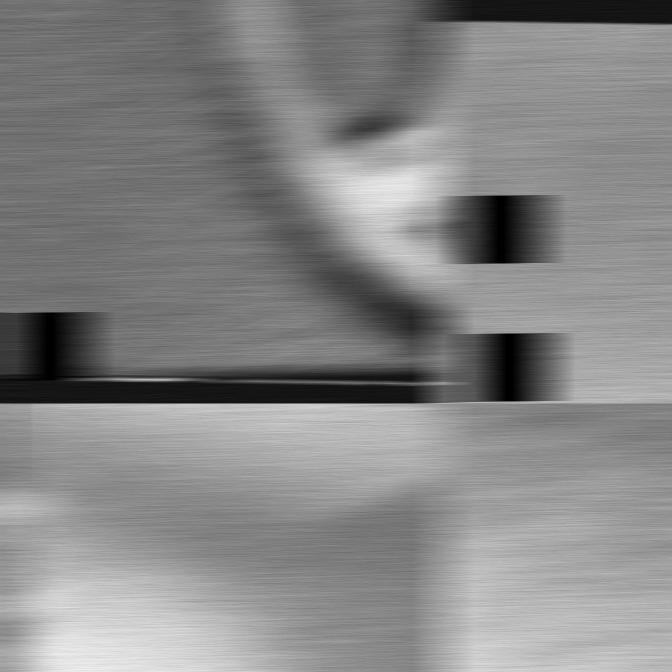Airbag: (0, 0, 450, 403), (0, 403, 450, 672), (436, 24, 672, 403), (436, 403, 672, 672)
